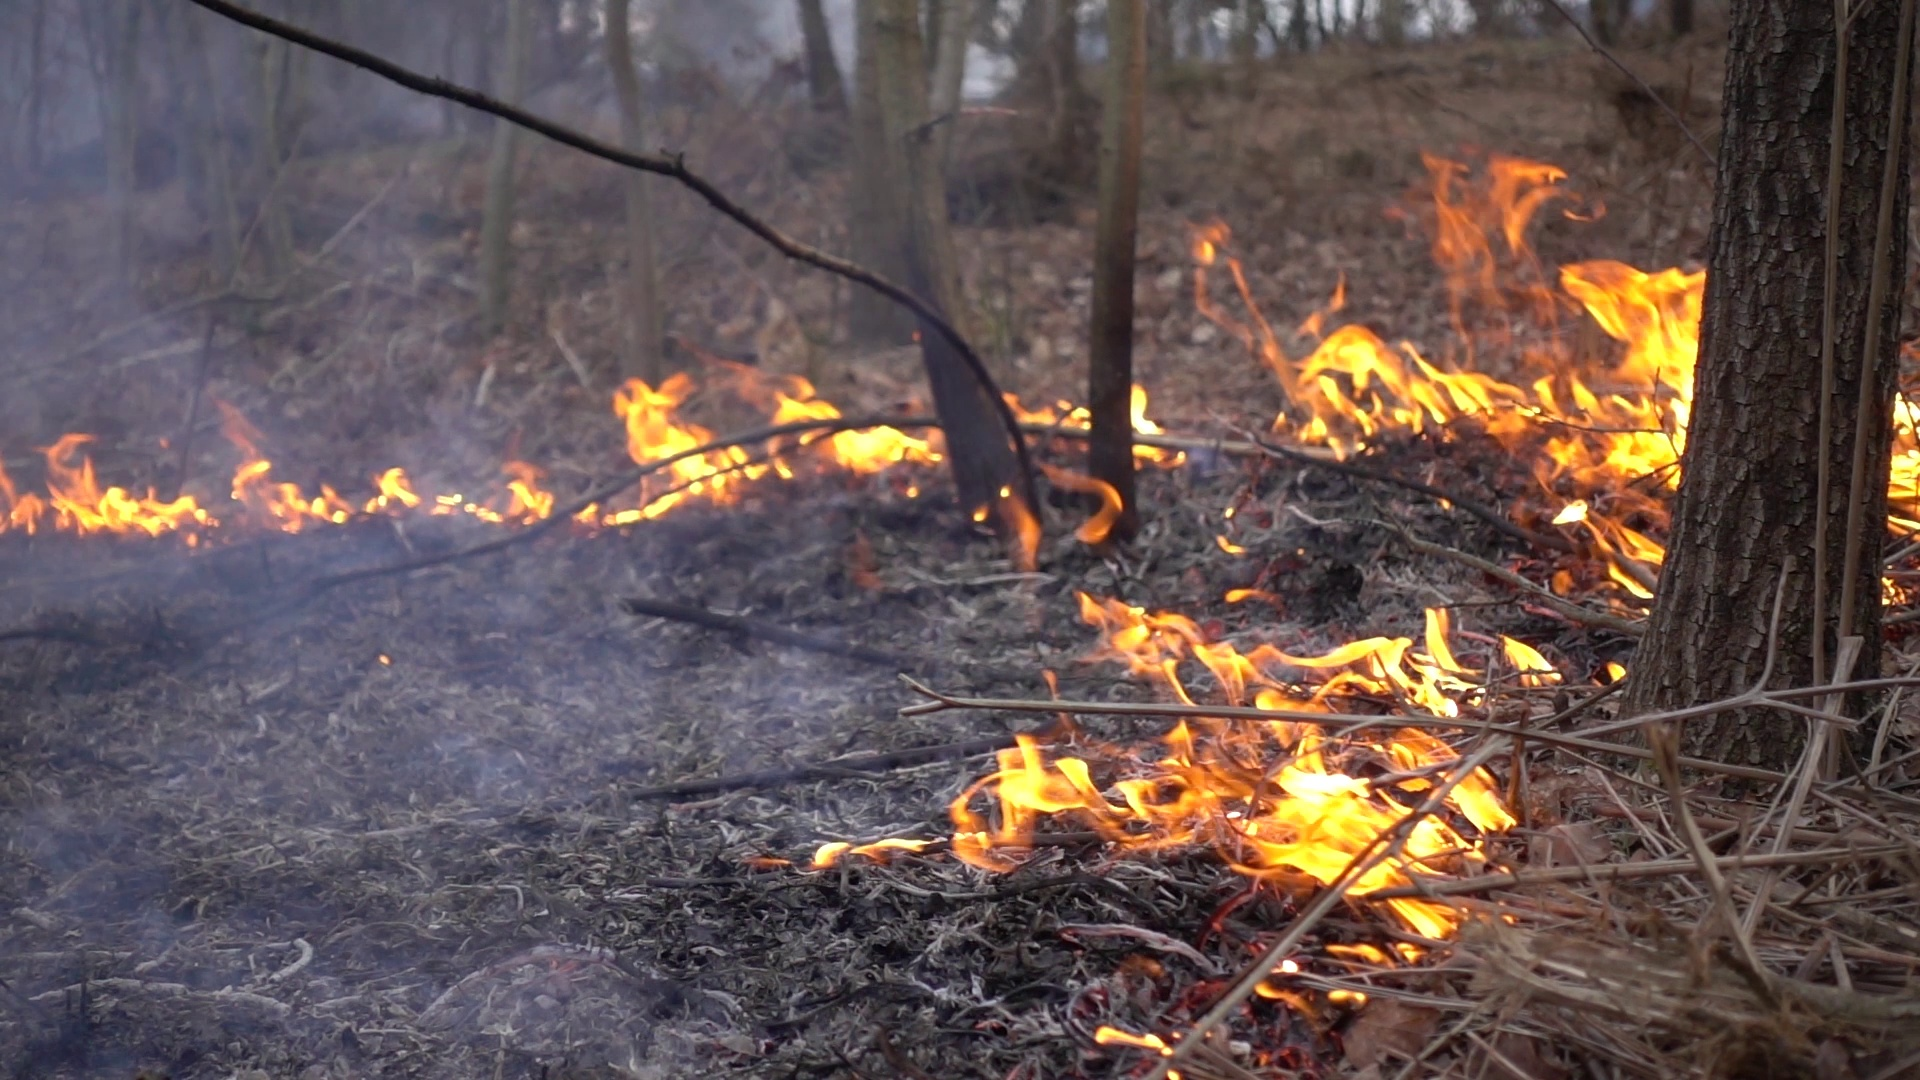fire: (949, 596, 1509, 956), (1288, 153, 1700, 502), (603, 368, 928, 518), (4, 439, 199, 534), (235, 458, 393, 531), (404, 464, 549, 535), (1890, 396, 1917, 500)
